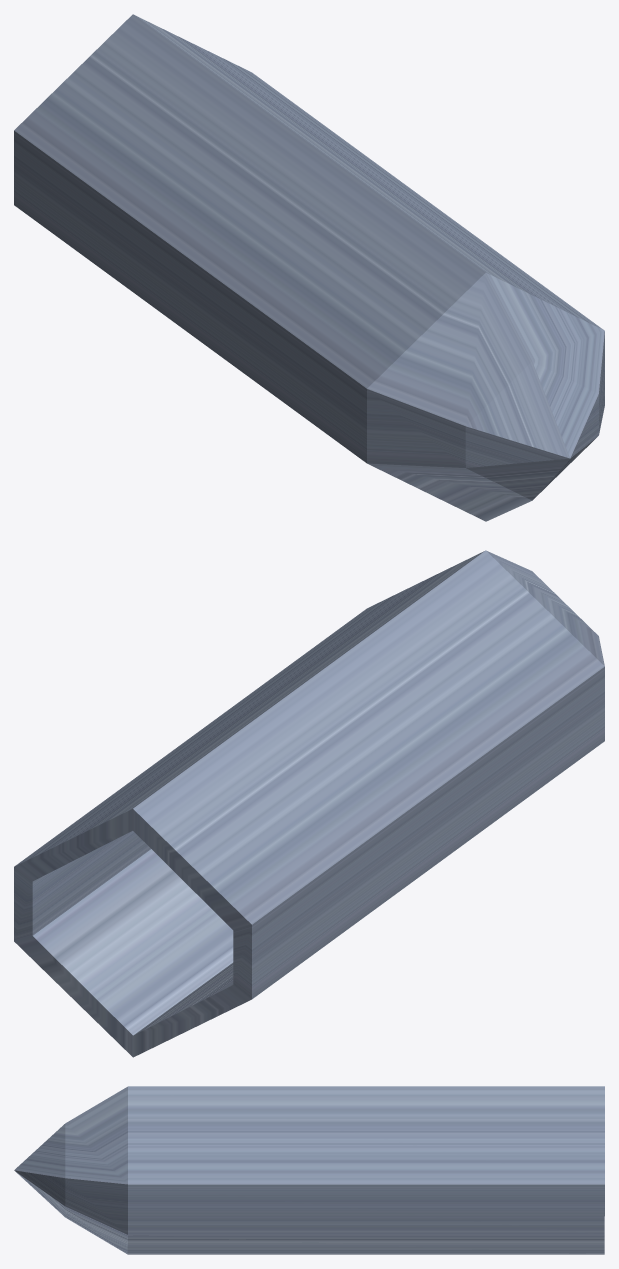
The model's file is Projectile.obj.
The picture shows the model from 3 angles, top to bottom: view 1: azimuth 30°, elevation 25°; view 2: azimuth 150°, elevation 25°; view 3: azimuth 270°, elevation 25°; orthographic projection. The views are drawn at different scales.
Visible parts, largest first — view 1: Proiectil; view 2: Proiectil; view 3: Proiectil.
Boxes of the visible parts, bbox=[...] form: Proiectil: bbox=[14, 14, 604, 521]; Proiectil: bbox=[14, 550, 604, 1057]; Proiectil: bbox=[14, 1086, 604, 1254].
Size of the model in its own units: 0.2639 by 0.2639 by 0.8401.
